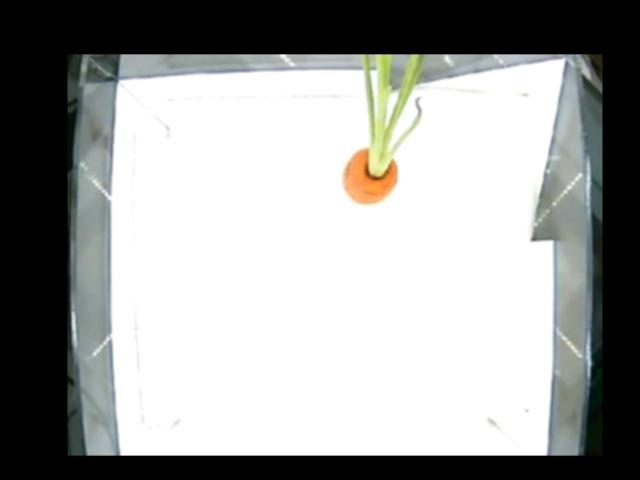Carrot: (339, 111, 406, 205)
